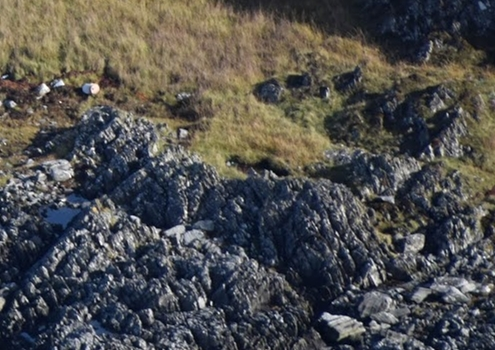scattered_barrel: (23, 60, 111, 107)
